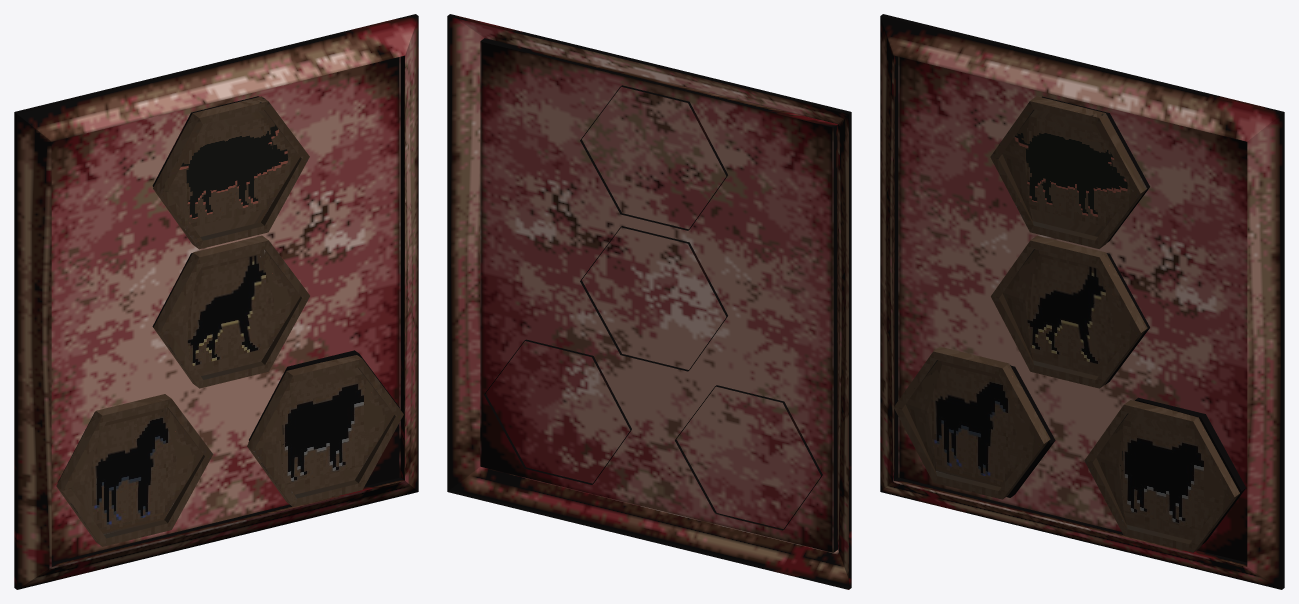
File: BoardAdrian.fbx
3 views of the same model, side by side, from view 1: azimuth 30°, elevation 25°; view 2: azimuth 150°, elevation 25°; view 3: azimuth 330°, elevation 25° (orthographic).
Visible parts, largest first — view 1: AdrianBoard, HorseToken, DogToken, PorkToken, SheepToken; view 2: AdrianBoard; view 3: AdrianBoard, PorkToken, HorseToken, DogToken, SheepToken.
Boxes of the visible parts, bbox=[...] form: AdrianBoard: bbox=[14, 14, 418, 589]; HorseToken: bbox=[56, 394, 213, 546]; DogToken: bbox=[153, 235, 309, 388]; PorkToken: bbox=[153, 96, 309, 249]; SheepToken: bbox=[247, 355, 403, 506]; AdrianBoard: bbox=[447, 14, 851, 589]; AdrianBoard: bbox=[880, 14, 1284, 589]; PorkToken: bbox=[990, 96, 1147, 248]; HorseToken: bbox=[893, 346, 1050, 499]; DogToken: bbox=[991, 235, 1147, 388]; SheepToken: bbox=[1084, 400, 1239, 552].
Size of the model in its own units: 1.04 by 1.17 by 0.0854.
